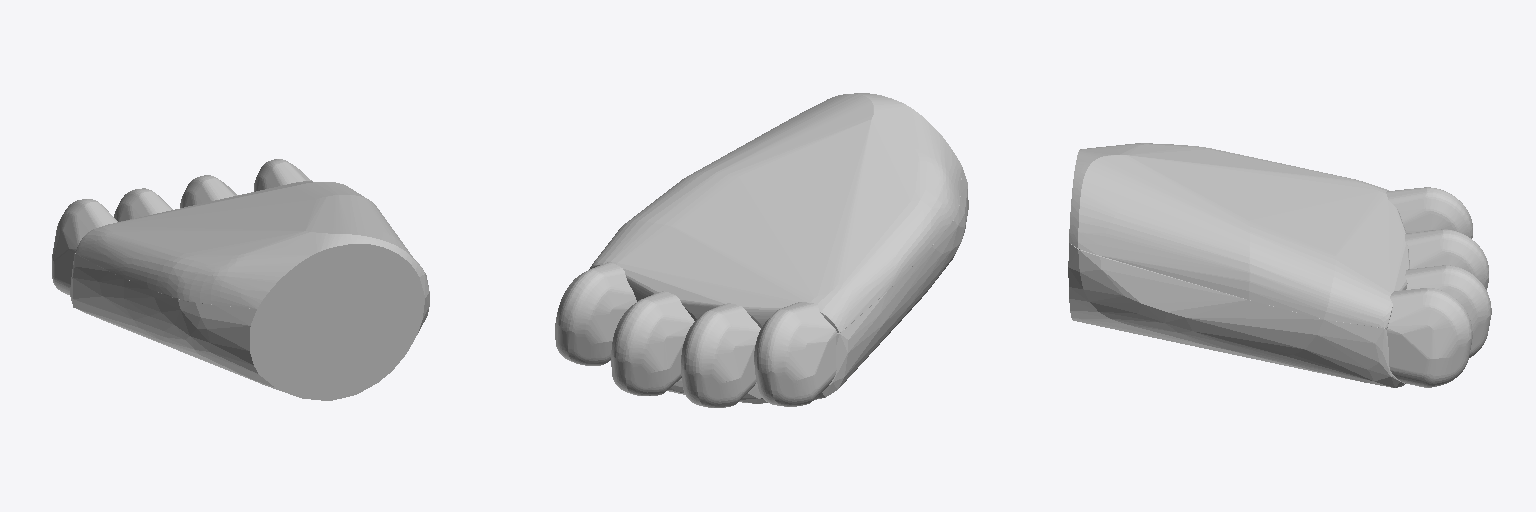
The model's file is FB_palm_ref_MIR.obj.
3 views of the same model, side by side, from view 1: azimuth 30°, elevation 25°; view 2: azimuth 150°, elevation 25°; view 3: azimuth 270°, elevation 25° (orthographic).
Visible parts, largest first — view 1: off; view 2: off; view 3: off.
Part boxes in pixels (x1,y1,x2,y2): off: (52,159,429,400); off: (555,93,968,407); off: (1068,143,1491,387).
Size of the model in its own units: 0.0816 by 0.053 by 0.1106.